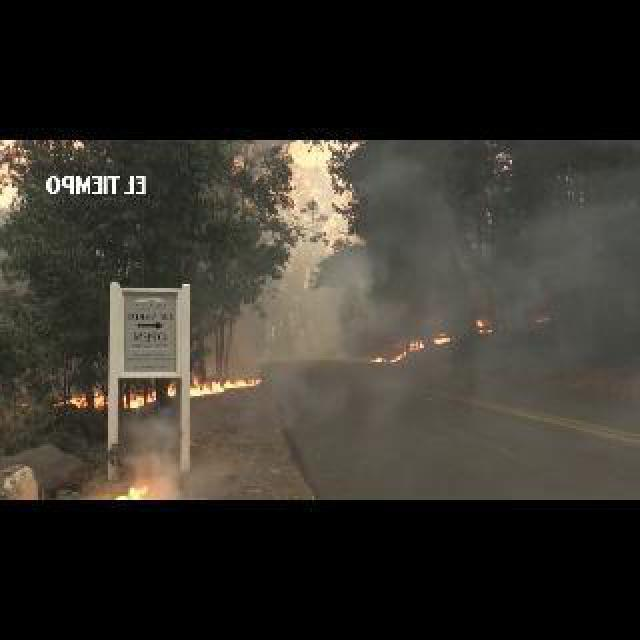Fire: (190, 372, 260, 398), (126, 388, 156, 408), (116, 486, 148, 500), (54, 394, 84, 406), (94, 392, 104, 410), (390, 352, 408, 362), (434, 336, 450, 346), (410, 340, 424, 350), (170, 382, 178, 394), (374, 356, 386, 362), (478, 320, 484, 326)
